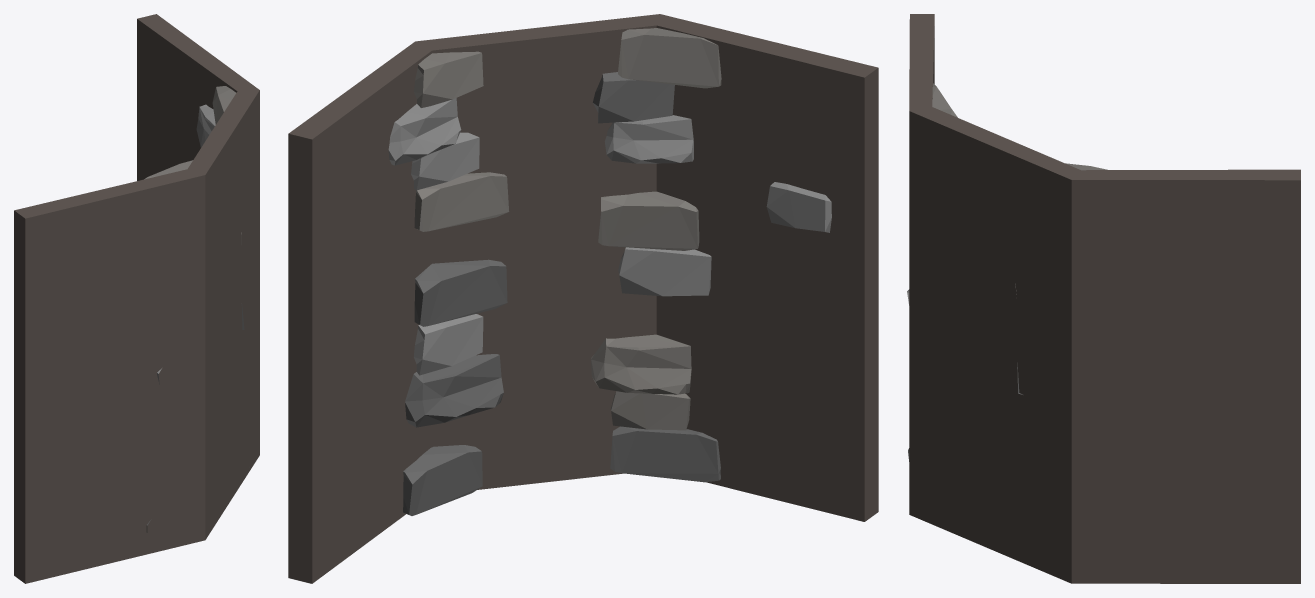
The model's file is MCastle_OctWall_Int_06.FBX.
The picture shows the model from 3 angles, left to right: view 1: azimuth 30°, elevation 25°; view 2: azimuth 150°, elevation 25°; view 3: azimuth 270°, elevation 25°; orthographic projection. The views are drawn at different scales.
Visible parts, largest first — view 1: MCastle_OctWall_Int_06_LOD0; view 2: MCastle_OctWall_Int_06_LOD0; view 3: MCastle_OctWall_Int_06_LOD0.
Part boxes in pixels (bbox=[...]): MCastle_OctWall_Int_06_LOD0: bbox=[14, 14, 259, 583]; MCastle_OctWall_Int_06_LOD0: bbox=[288, 14, 878, 583]; MCastle_OctWall_Int_06_LOD0: bbox=[907, 14, 1300, 583].
Size of what is drawn, in the model's own units: 155 by 176 by 155.
